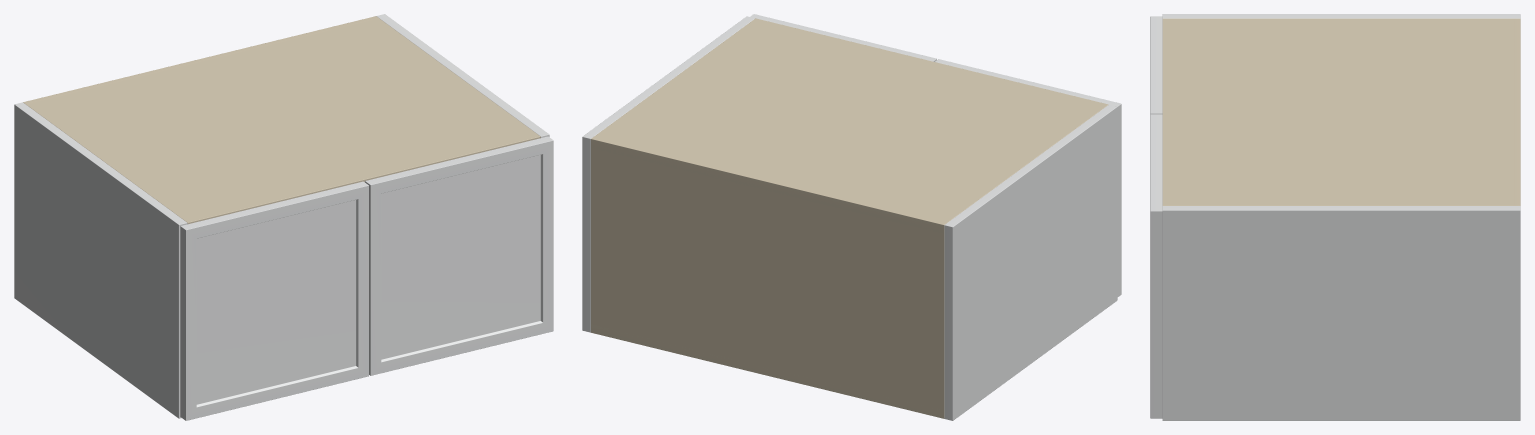
File: oppein-ply-ssw-w301524.glb
The picture shows the model from 3 angles, left to right: view 1: azimuth 30°, elevation 25°; view 2: azimuth 150°, elevation 25°; view 3: azimuth 270°, elevation 25°; orthographic projection. The views are drawn at different scales.
Parts seen in each view (by area): view 1: Cabinet top, Door, Door.001, Cabinet side, Cabinet side.001, Cabinet back; view 2: Cabinet back, Cabinet top, Cabinet side, Cabinet side.001, Door, Cabinet bottom, Door.001; view 3: Cabinet side.001, Cabinet top, Door.001, Cabinet side, Cabinet back, Door.
Part boxes in pixels (x1,y1,x2,y2): Cabinet top: [23, 16, 540, 224]; Door: [180, 181, 368, 420]; Door.001: [365, 136, 553, 375]; Cabinet side: [14, 102, 187, 418]; Cabinet side.001: [376, 14, 549, 137]; Cabinet back: [23, 16, 378, 104]; Cabinet back: [591, 136, 946, 418]; Cabinet top: [591, 18, 1108, 233]; Cabinet side: [944, 104, 1117, 420]; Cabinet side.001: [582, 16, 754, 332]; Door: [935, 59, 1121, 296]; Cabinet bottom: [591, 324, 943, 417]; Door.001: [750, 14, 936, 61]; Cabinet side.001: [1162, 206, 1520, 420]; Cabinet top: [1162, 18, 1520, 205]; Door.001: [1150, 114, 1162, 418]; Cabinet side: [1162, 14, 1520, 18]; Cabinet back: [1513, 18, 1520, 205]; Door: [1150, 16, 1162, 114].
Bounding box in the file's own units: 0.762 × 0.381 × 0.6064.
